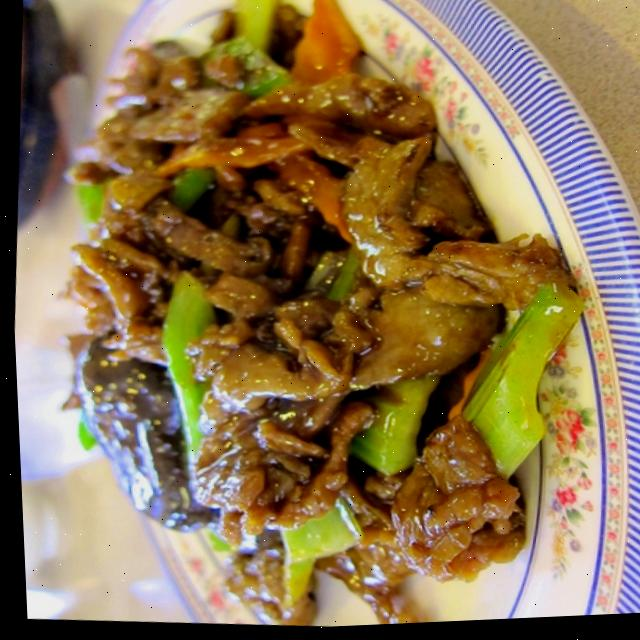牛肉菜式: (15, 0, 632, 639)
